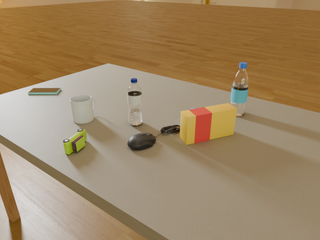bottle: (230, 62, 249, 116), (127, 78, 143, 126)
box: (180, 103, 237, 145)
cup: (70, 95, 96, 124)
mouse: (128, 133, 156, 150)
toy_car: (63, 129, 87, 154)
